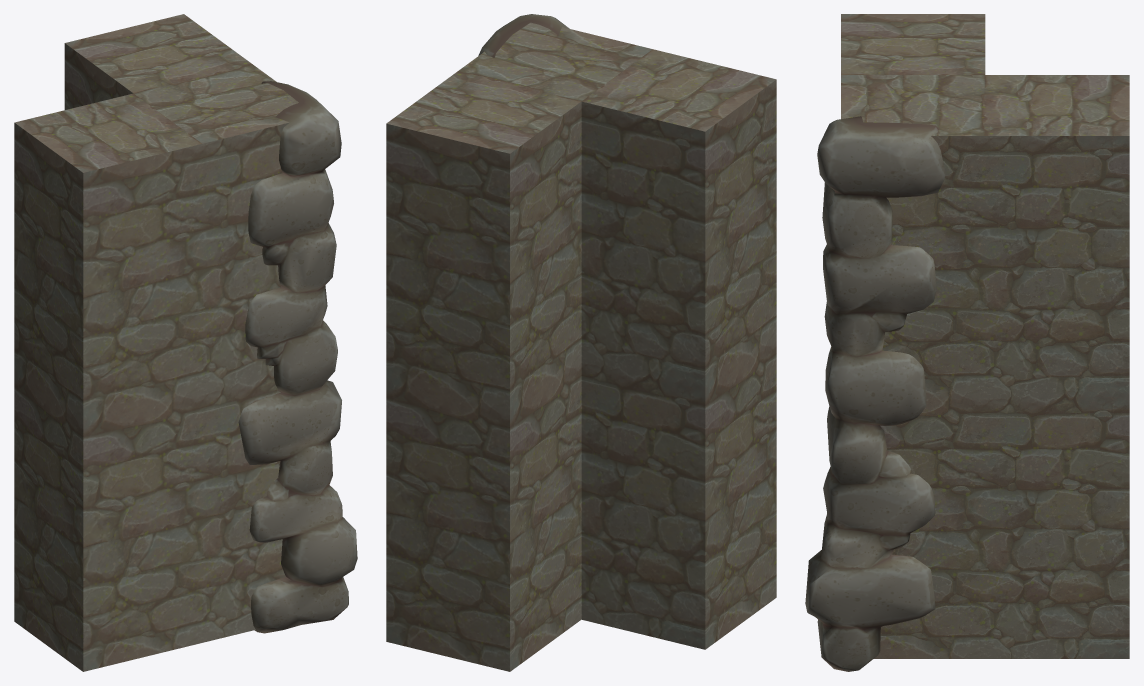
The model's file is MSH_fwOF_Ruins_Wall_Corner_01.fbx.
3 renders of one model, left to right at view 1: azimuth 30°, elevation 25°; view 2: azimuth 150°, elevation 25°; view 3: azimuth 270°, elevation 25°, orthographic. The views are drawn at different scales.
Parts seen in each view (by area): view 1: MSH_fwOF_Ruins_Wall_Corner_01_Base, MSH_fwOF_Ruins_Wall_Corner_01_LOD0; view 2: MSH_fwOF_Ruins_Wall_Corner_01_Base, MSH_fwOF_Ruins_Wall_Corner_01_LOD0; view 3: MSH_fwOF_Ruins_Wall_Corner_01_Base, MSH_fwOF_Ruins_Wall_Corner_01_LOD0.
Boxes of the visible parts, box(x1,y1,x2,y2) form: MSH_fwOF_Ruins_Wall_Corner_01_Base: box(14, 14, 298, 671); MSH_fwOF_Ruins_Wall_Corner_01_LOD0: box(238, 81, 357, 633); MSH_fwOF_Ruins_Wall_Corner_01_Base: box(386, 22, 776, 671); MSH_fwOF_Ruins_Wall_Corner_01_LOD0: box(478, 14, 569, 57); MSH_fwOF_Ruins_Wall_Corner_01_Base: box(841, 14, 1129, 658); MSH_fwOF_Ruins_Wall_Corner_01_LOD0: box(805, 116, 945, 671).
Size of what is drawn, in the model's own units: 2.21 by 4.11 by 2.25.
